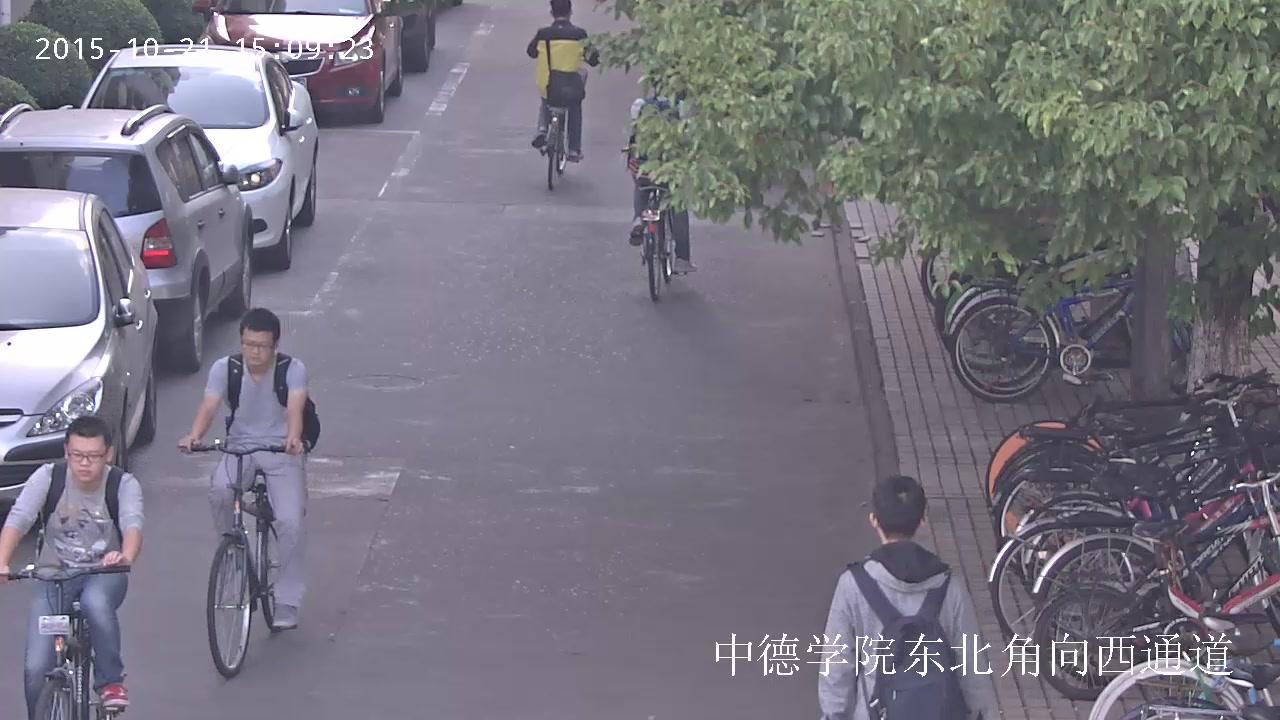person: (174, 307, 319, 678), (175, 308, 320, 626), (815, 474, 999, 720), (0, 414, 144, 720), (0, 416, 144, 720), (620, 67, 697, 302), (626, 68, 697, 273), (525, 0, 599, 190), (527, 0, 600, 162)
